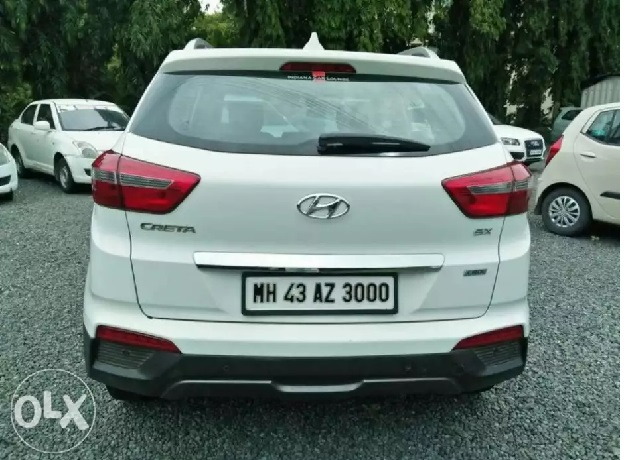licenseplate: (242, 270, 400, 314)
